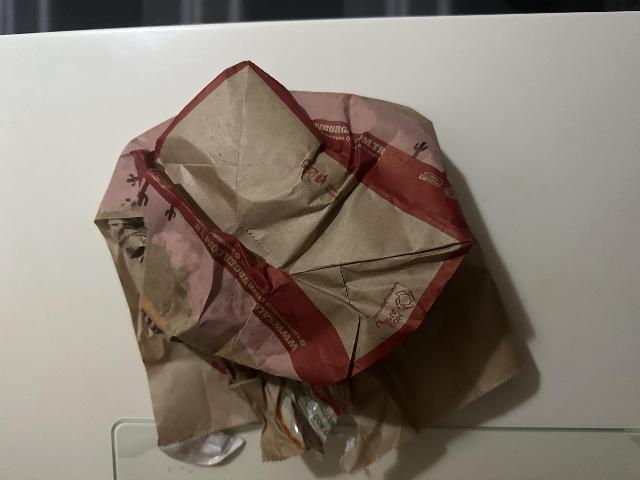Kagit: (94, 60, 527, 471)
